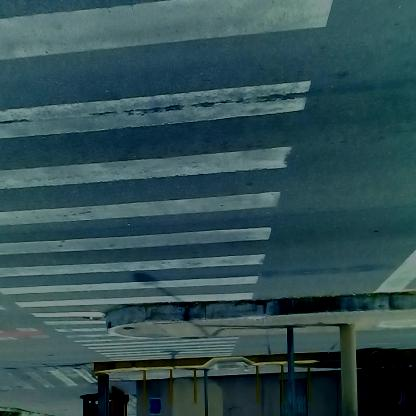crosswalk: (1, 2, 312, 357)
